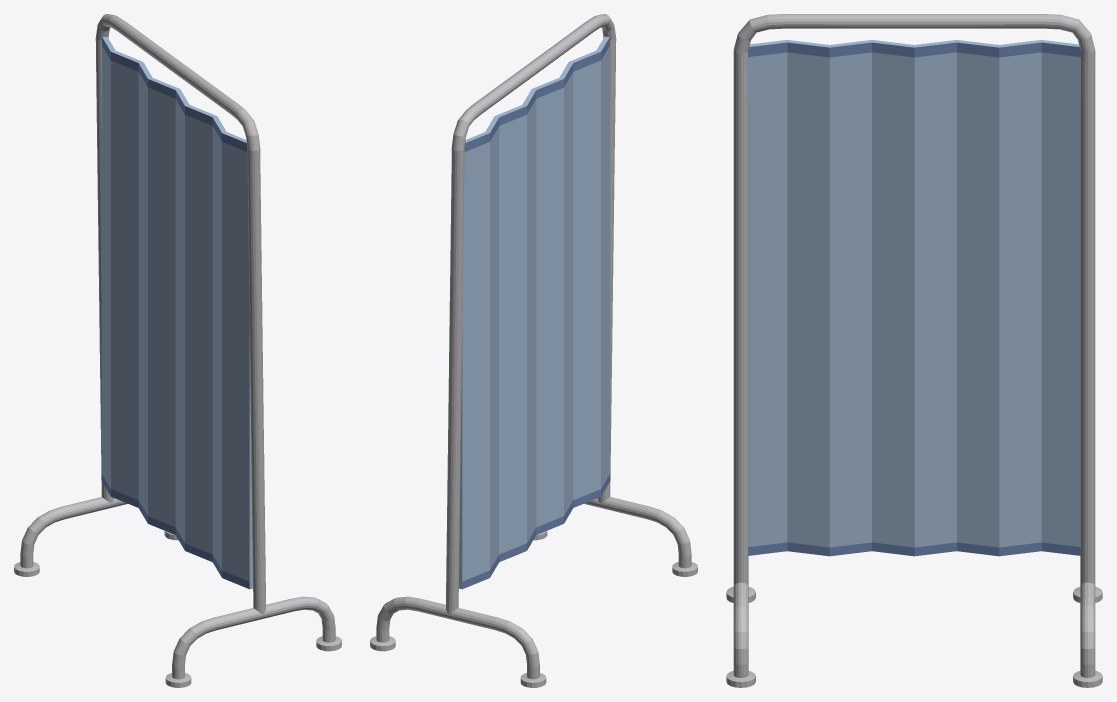
File: DoctorsWallThing.fbx
3 views of the same model, side by side, from view 1: azimuth 30°, elevation 25°; view 2: azimuth 150°, elevation 25°; view 3: azimuth 270°, elevation 25° (orthographic). The views are drawn at different scales.
Parts seen in each view (by area): view 1: Cylinder; view 2: Cylinder; view 3: Cylinder.
Boxes of the visible parts, <box> form: Cylinder: <box>14,14,341,687</box>; Cylinder: <box>370,14,697,687</box>; Cylinder: <box>726,14,1102,687</box>.
Size of the model in its own units: 81.32 by 246 by 134.
